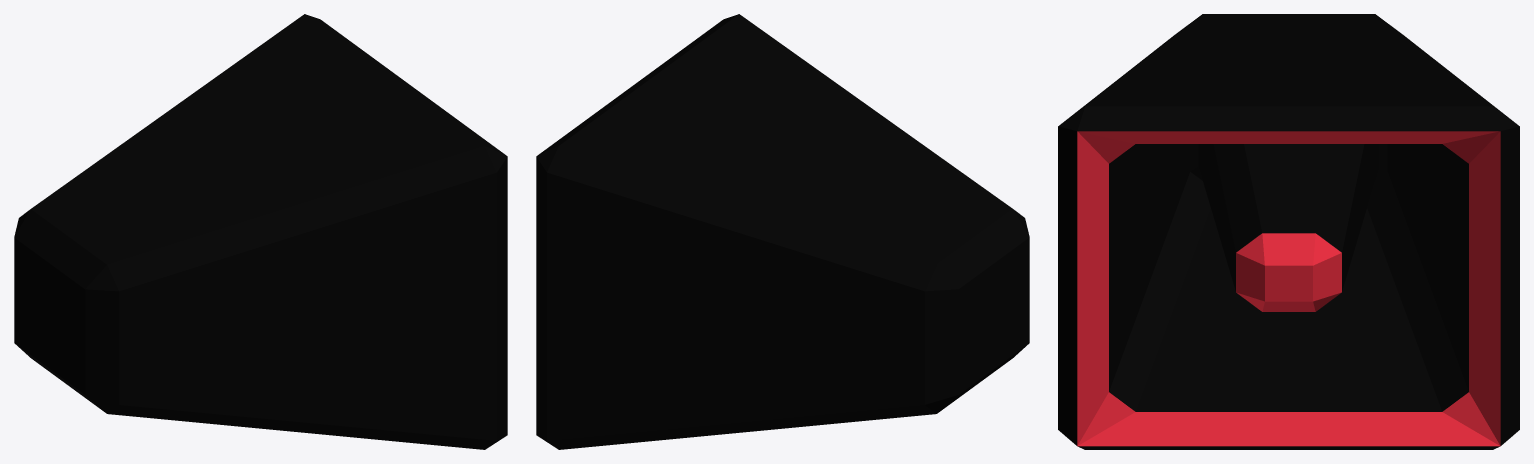
Rendered from speaker-envirdesign.fbx.
The picture shows the model from 3 angles, left to right: view 1: azimuth 30°, elevation 25°; view 2: azimuth 150°, elevation 25°; view 3: azimuth 270°, elevation 25°; orthographic projection. The views are drawn at different scales.
Parts seen in each view (by area): view 1: Cube.002; view 2: Cube.002; view 3: Cube.002.
Boxes of the visible parts, x1,y1,x2,y2 form: Cube.002: (14, 14, 507, 449); Cube.002: (536, 14, 1029, 449); Cube.002: (1058, 14, 1519, 449).
Size of the model in its own units: 200 by 159 by 194.
